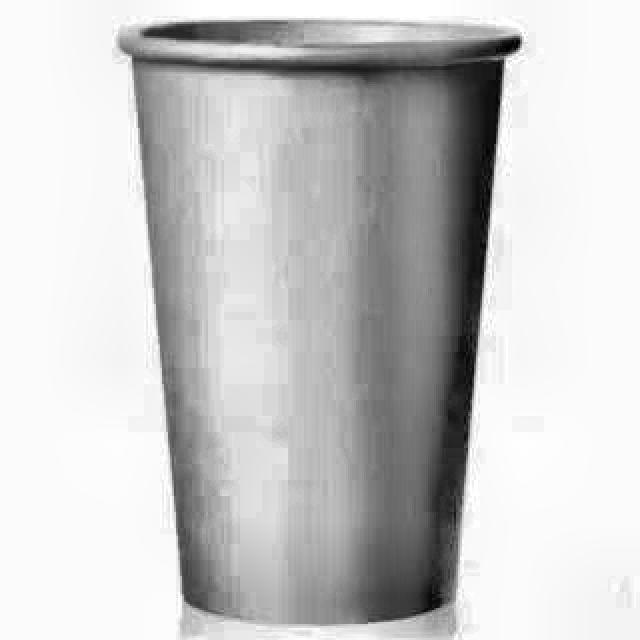Cup: (111, 9, 521, 627)
